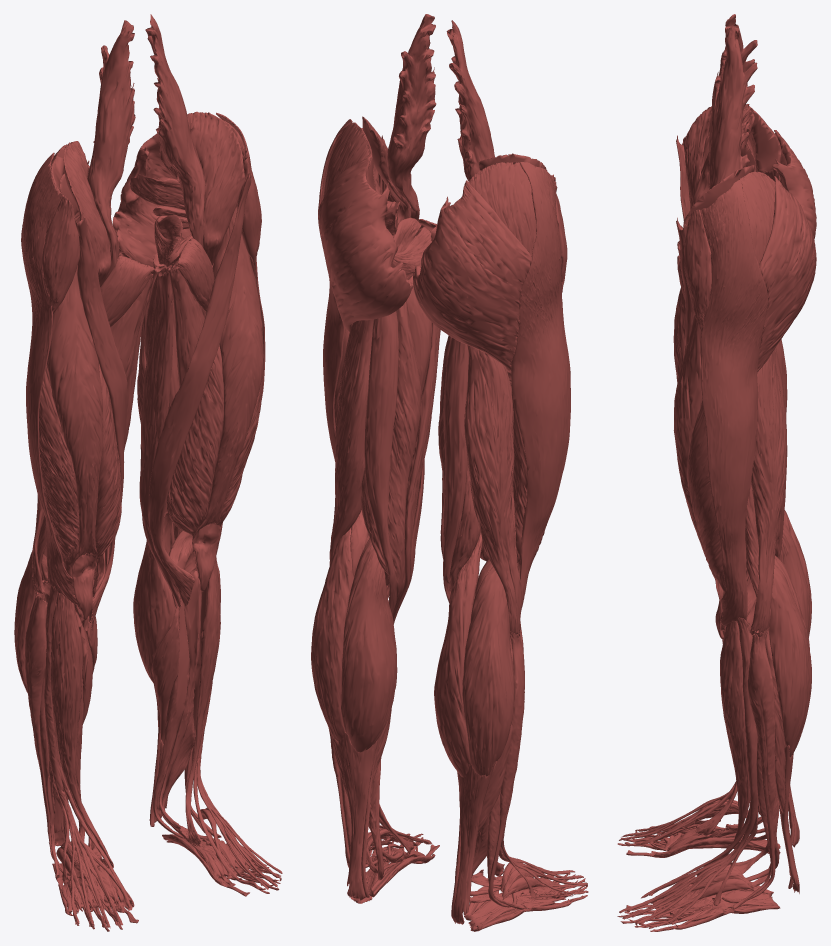
Rendered from lower-limbs.glb.
The picture shows the model from 3 angles, left to right: view 1: azimuth 30°, elevation 25°; view 2: azimuth 150°, elevation 25°; view 3: azimuth 270°, elevation 25°; orthographic projection. The views are drawn at different scales.
Visible parts, largest first — view 1: FMA38928, FMA38929, FMA22355, FMA58776, FMA22342, FMA38933, FMA43884, FMA22544, FMA22323, FMA22343, FMA22354, FMA38930 (+35 smaller); view 2: FMA58776, FMA22328, FMA22329, FMA45888, FMA45958, FMA45960, FMA22359, FMA22449, FMA45889, FMA22343, FMA45957, FMA45961 (+23 smaller); view 3: FMA58777, FMA45889, FMA22329, FMA45961, FMA22343, FMA22553, FMA22545, FMA22549, FMA38929, FMA38931, FMA22426, FMA22331 (+24 smaller).
Boxes of the visible parts, x1,y1,x2,y2 form: FMA38928: (47, 265, 102, 620); FMA38929: (192, 207, 263, 591); FMA22355: (149, 172, 251, 606); FMA58776: (21, 152, 77, 604); FMA22342: (87, 20, 135, 285); FMA38933: (166, 345, 223, 570); FMA43884: (139, 268, 181, 608); FMA22544: (50, 593, 113, 867); FMA22323: (187, 111, 245, 265); FMA22343: (145, 14, 205, 246); FMA22354: (74, 213, 127, 629); FMA38930: (39, 364, 79, 609); FMA58776: (511, 162, 570, 611); FMA22328: (413, 180, 531, 370); FMA22329: (318, 157, 413, 332); FMA45888: (464, 345, 521, 634); FMA45958: (341, 538, 397, 752); FMA45960: (462, 567, 514, 776); FMA22359: (364, 311, 398, 615); FMA22449: (361, 301, 421, 599); FMA45889: (329, 319, 373, 565); FMA22343: (387, 14, 436, 220); FMA45957: (434, 532, 482, 777); FMA45961: (311, 527, 353, 740); FMA58777: (700, 179, 767, 626); FMA45889: (750, 349, 787, 634); FMA22329: (757, 176, 816, 371); FMA45961: (769, 564, 811, 757); FMA22343: (709, 26, 757, 189); FMA22553: (708, 628, 775, 903); FMA22545: (696, 620, 750, 875); FMA22549: (619, 617, 758, 928); FMA38929: (673, 315, 724, 639); FMA38931: (687, 401, 746, 630); FMA22426: (684, 209, 711, 330); FMA22331: (737, 171, 775, 263).
Bounding box in the file's own units: 0.312 × 1.11 × 0.2327.
